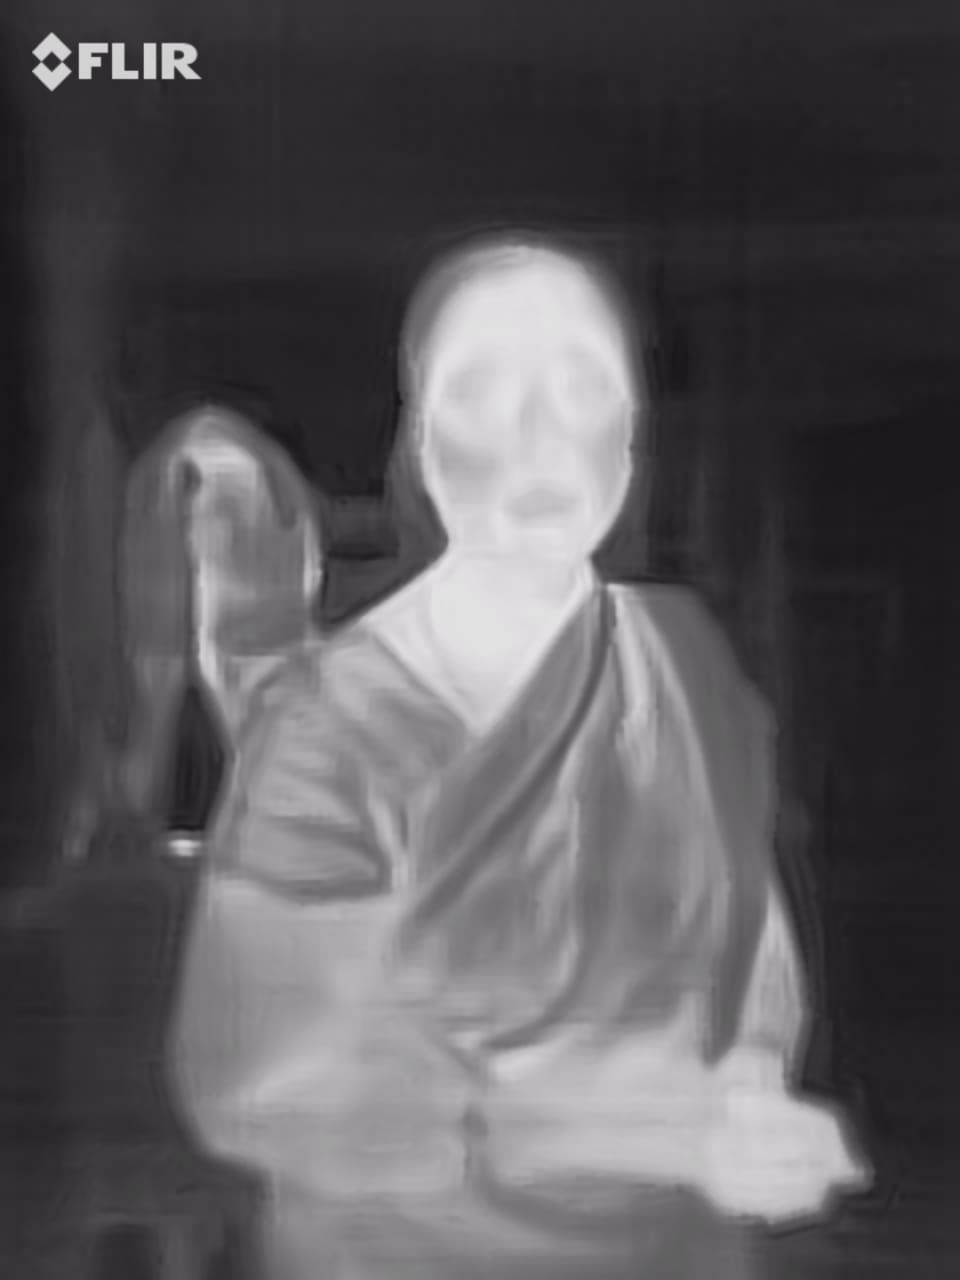head: (371, 229, 679, 583)
